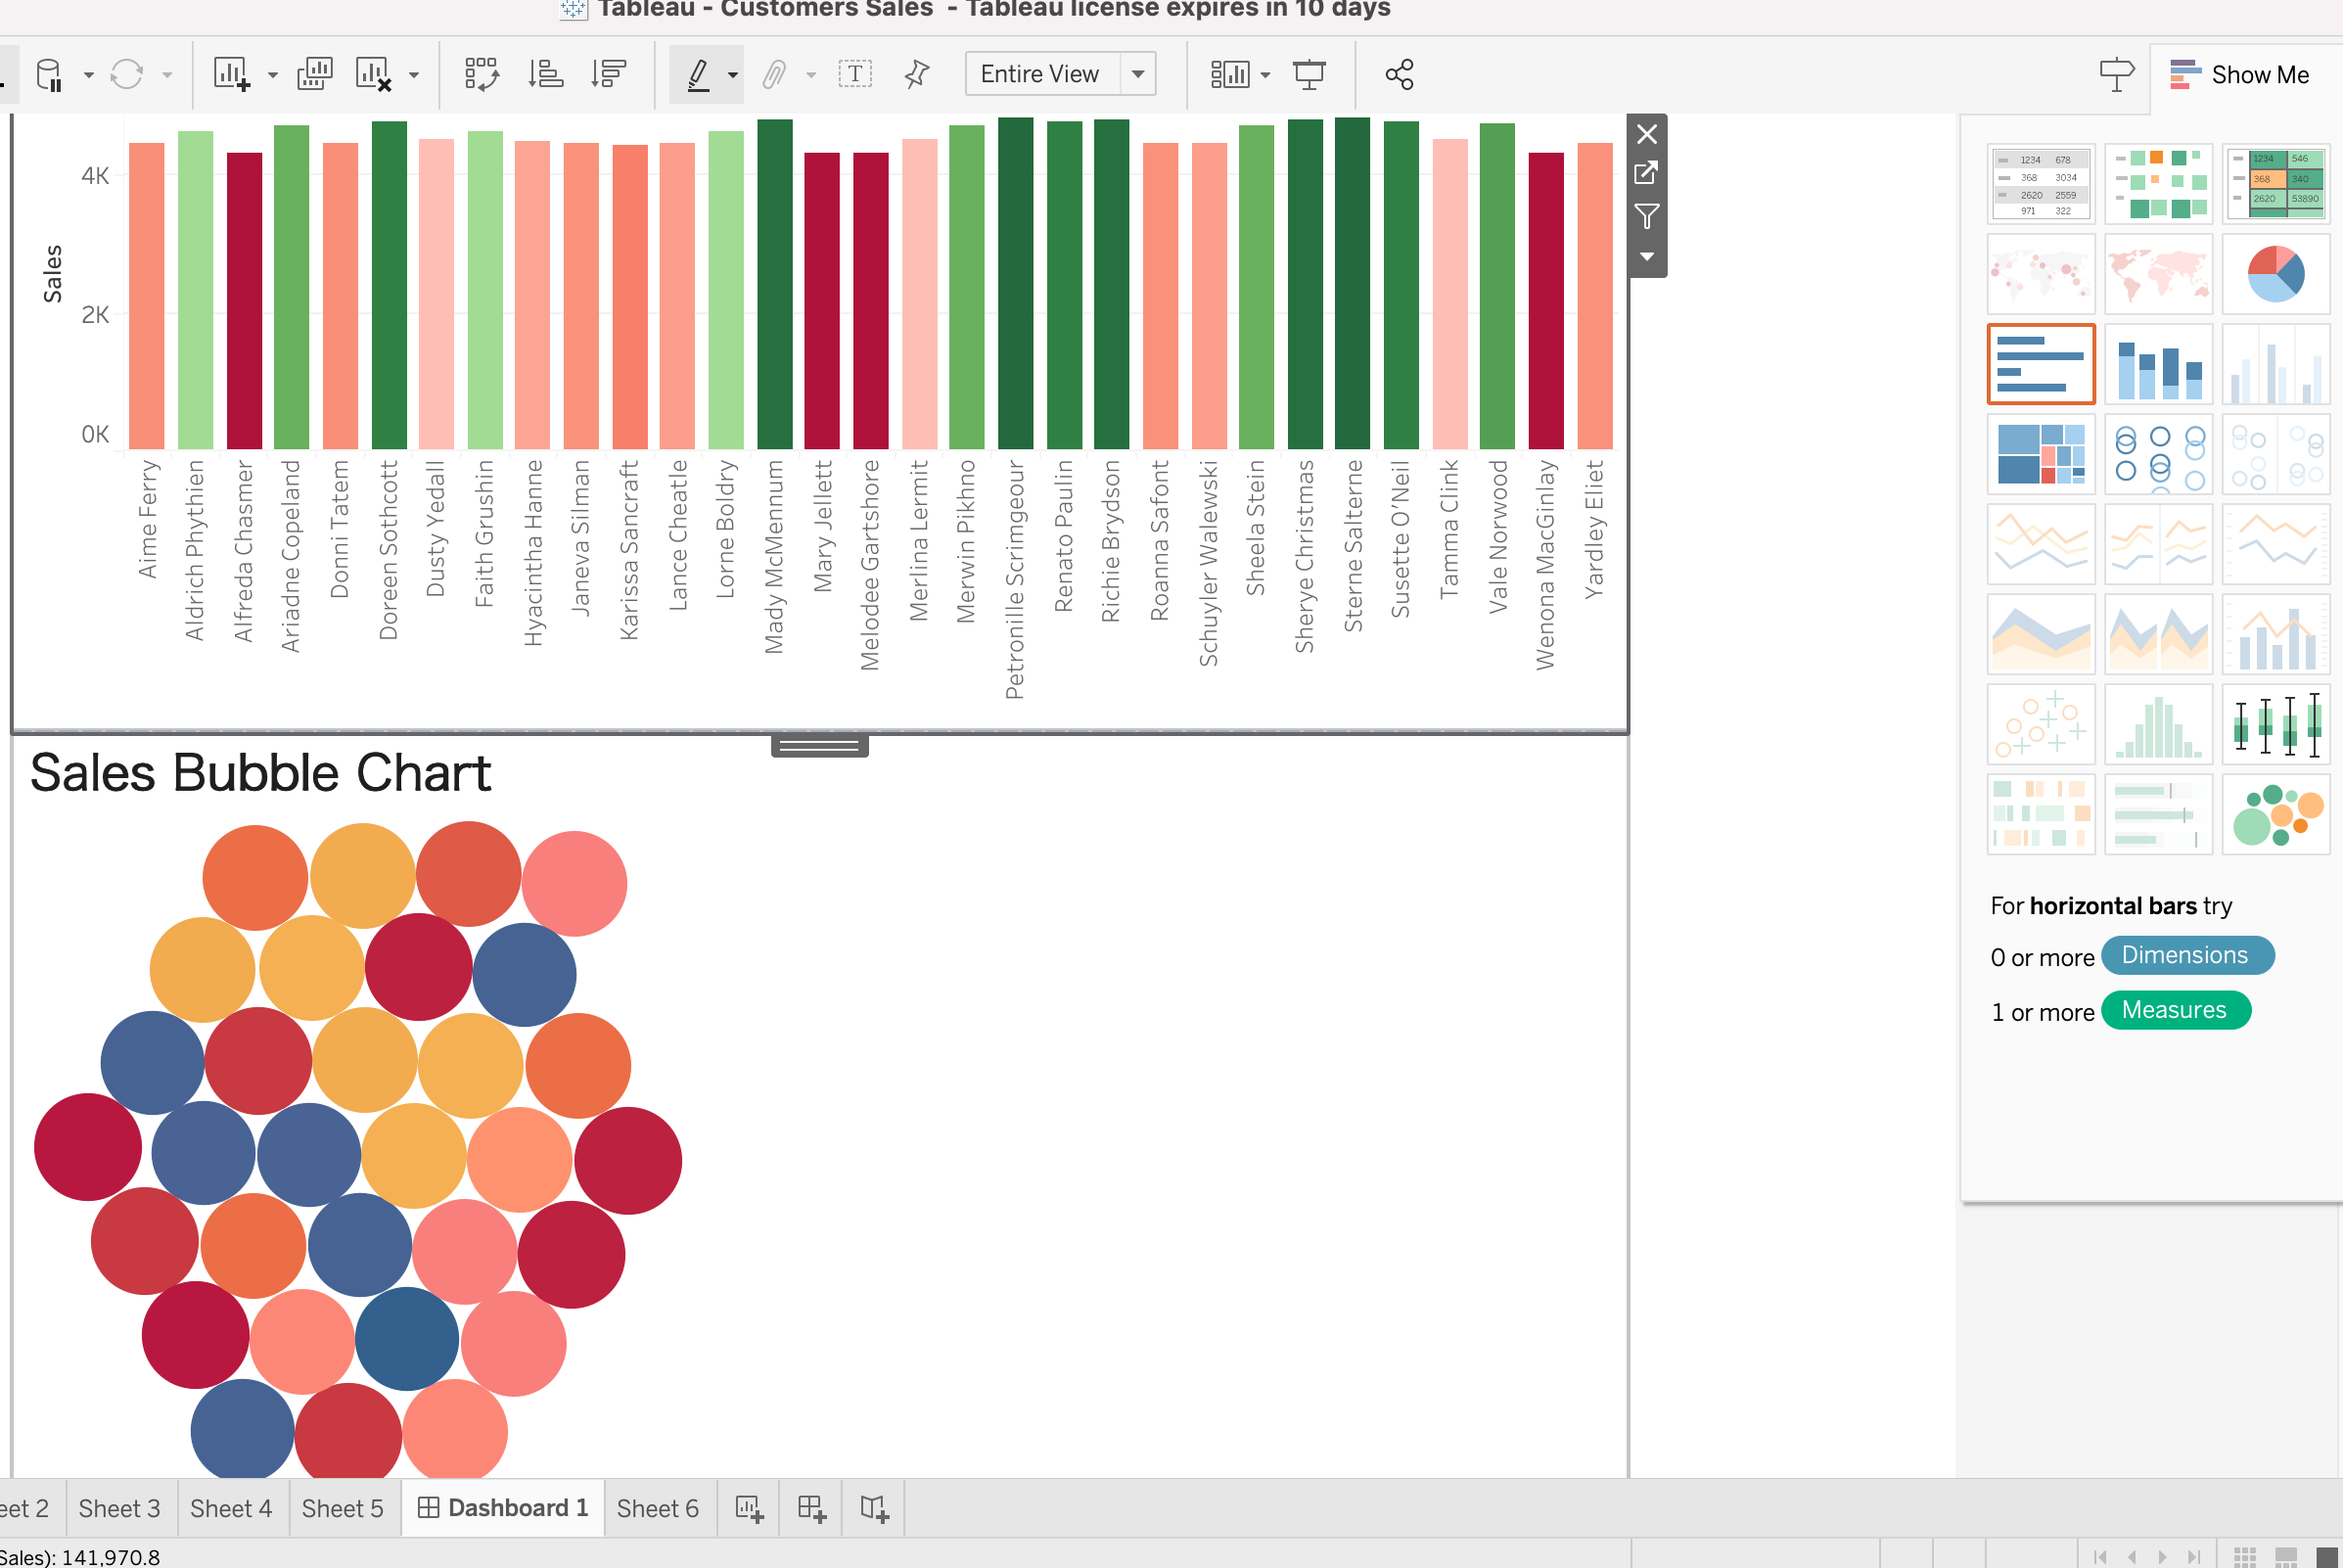

Layout of this report page (visuals, bound fields, positions):
{"tool":"tableau","page":{"name":"Dashboard 1","canvas":[1000,800],"ordinal":0},"visuals":[{"type":"worksheet","title":"Sheet 1","mark":"Automatic","rows":["Sales"],"cols":["Customer Name"],"box":[8,8,824,392]},{"type":"legend","title":"Sheet 1","param":"[federated.0q2kwri1dr6xdr19pwud3143y5hb].[sum:Sales:qk]","box":[832,8,160,65]},{"type":"worksheet","title":"Sheet 3","mark":"Circle","box":[8,400,824,392]}]}

Visuals, with their boxes on the page's 1000x800 design canvas (x1, y1, x2, y2). These are canvas units, not pixel positions in the 2343x1568 screenshot, which may show the page scaled, cropped or inside an application window:
"Sheet 1" worksheet: [8, 8, 832, 400]
"Sheet 1" legend: [832, 8, 992, 73]
"Sheet 3" worksheet (Circle marks): [8, 400, 832, 792]
